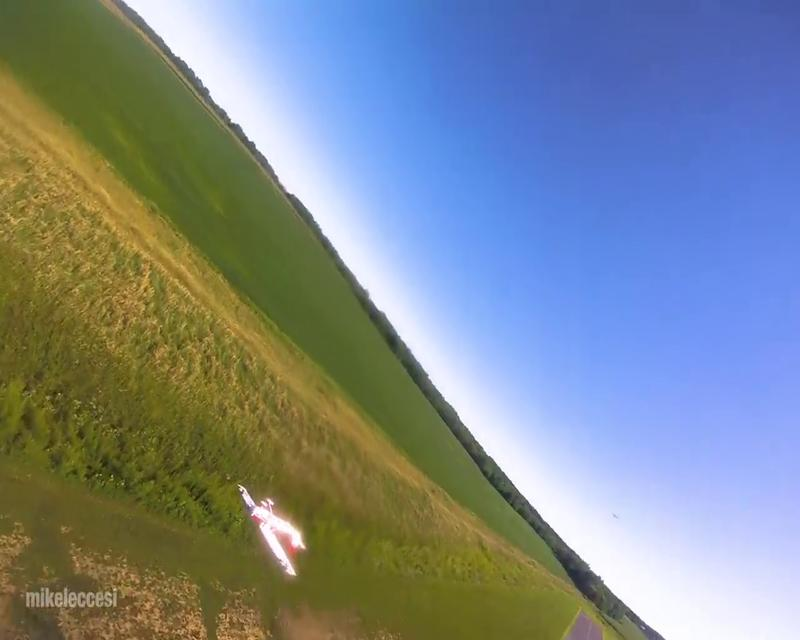UAV: (237, 484, 308, 577)
